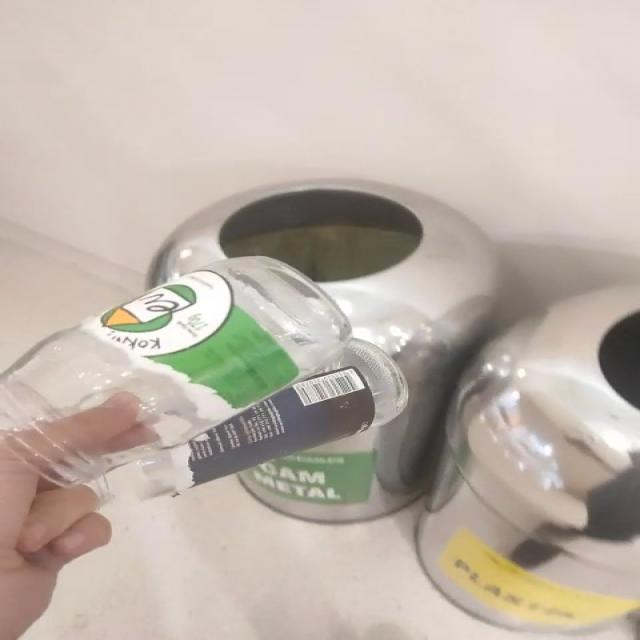glass: (3, 258, 408, 498)
